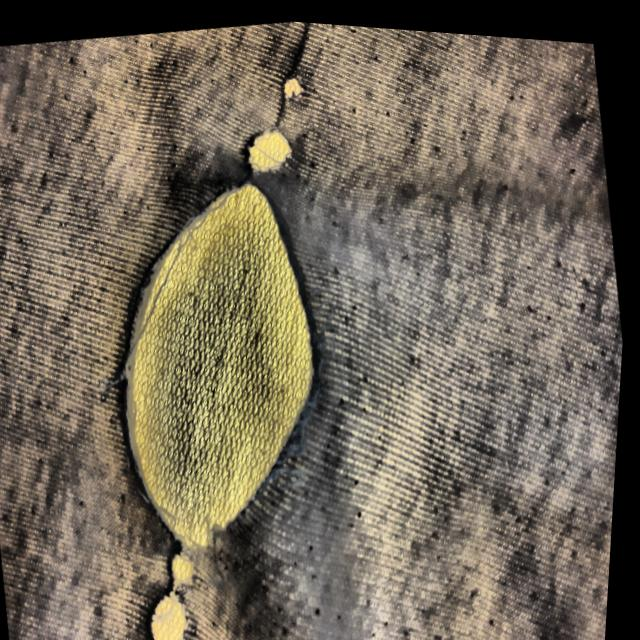Hole: (547, 292, 605, 365), (62, 206, 118, 254)
